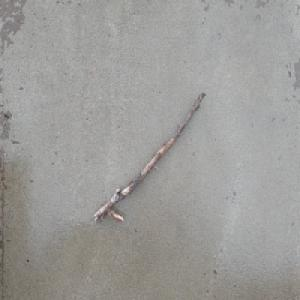Wood: (91, 89, 206, 224)
